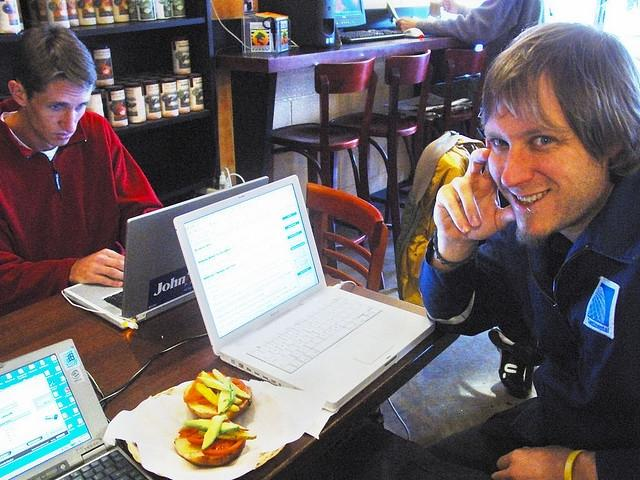avocado: (212, 368, 251, 400), (201, 414, 228, 450), (184, 419, 240, 434), (198, 377, 234, 392), (218, 376, 232, 412), (200, 370, 222, 382)
